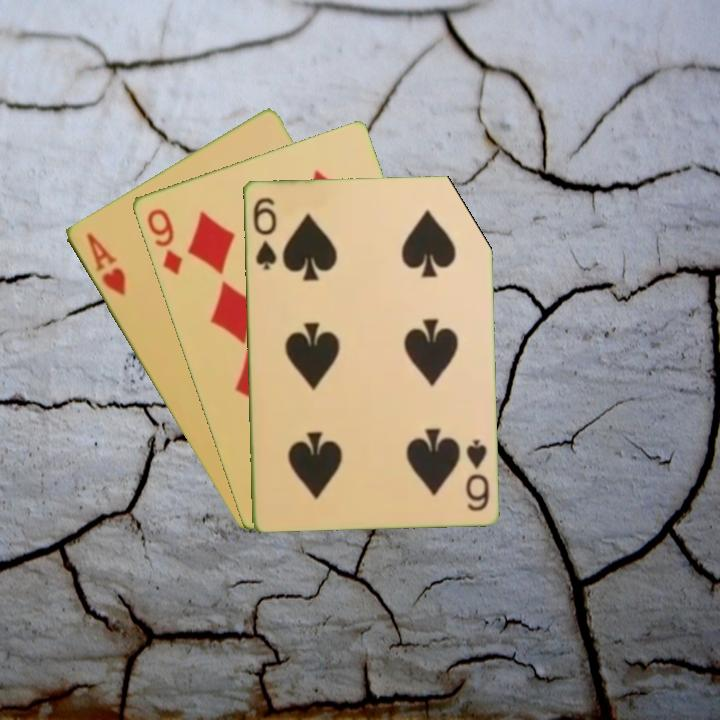6s: (461, 435, 492, 514), (249, 194, 279, 272)
9d: (143, 205, 185, 278)
Ah: (82, 229, 128, 299)
